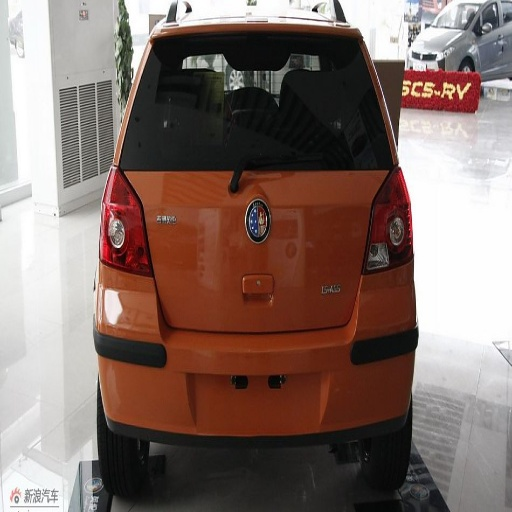back_bumper: (101, 265, 409, 507)
trunk: (127, 165, 387, 324)
